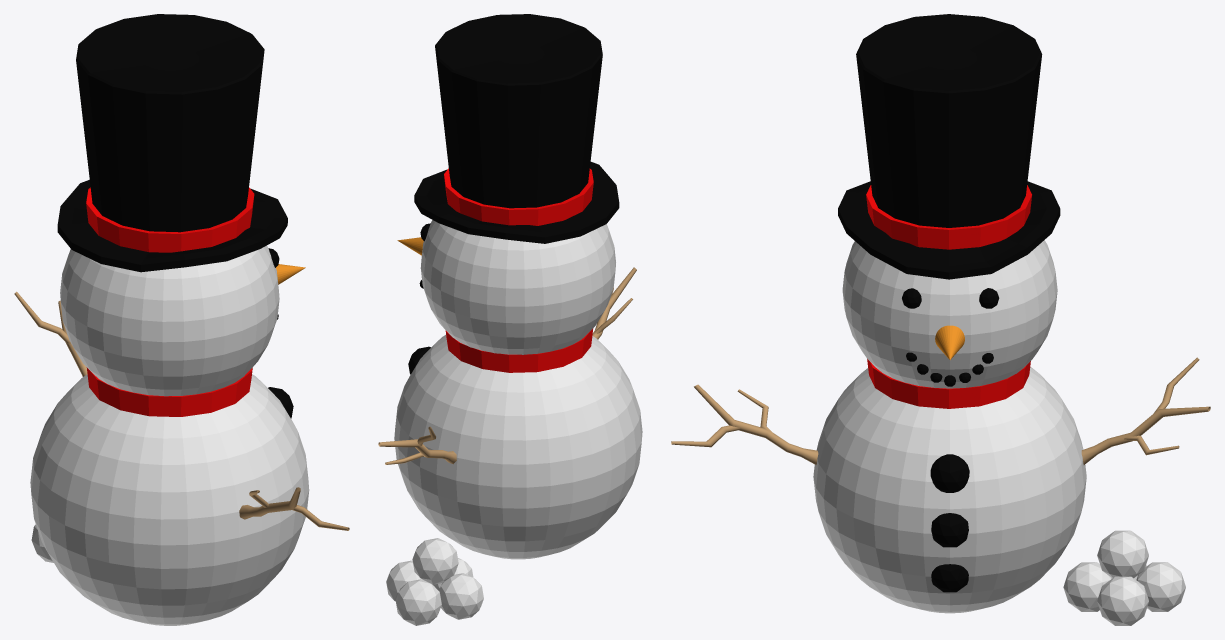
The model's file is SnowMan.fbx.
3 views of the same model, side by side, from view 1: azimuth 30°, elevation 25°; view 2: azimuth 150°, elevation 25°; view 3: azimuth 270°, elevation 25° (orthographic). The views are drawn at different scales.
Parts seen in each view (by area): view 1: Icosphere.001, Cylinder, Cylinder009; view 2: Icosphere.001, Cylinder, Cylinder009, Icosphere; view 3: Icosphere.001, Cylinder, Icosphere, Cylinder009, Cone.
Boxes of the visible parts, x1,y1,x2,y2 form: Icosphere.001: (30,245,309,625); Cylinder: (57,14,287,416); Cylinder009: (14,291,349,530); Icosphere.001: (386,220,642,625); Cylinder: (414,14,619,372); Cylinder009: (378,267,636,464); Icosphere: (408,223,430,374); Icosphere.001: (813,240,1185,625); Cylinder: (838,14,1060,408); Icosphere: (902,288,999,592); Cylinder009: (671,357,1210,464); Cone: (935,325,964,359).
Size of the model in its own units: 213 by 449 by 395.
